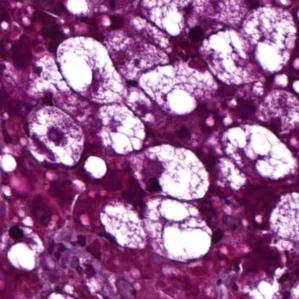ballooning: (133, 195, 216, 267), (123, 141, 213, 204), (54, 34, 129, 108), (217, 119, 298, 182), (197, 26, 268, 89), (26, 104, 88, 168), (89, 103, 148, 159)
